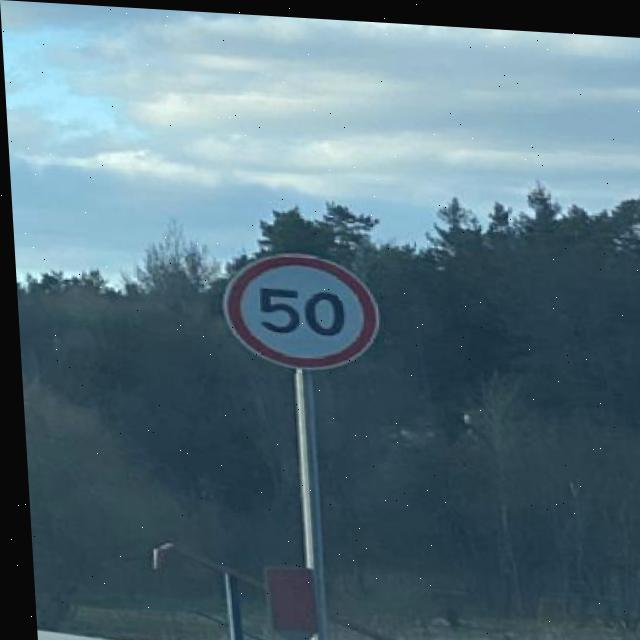Speed limit 50: (213, 243, 382, 373)
